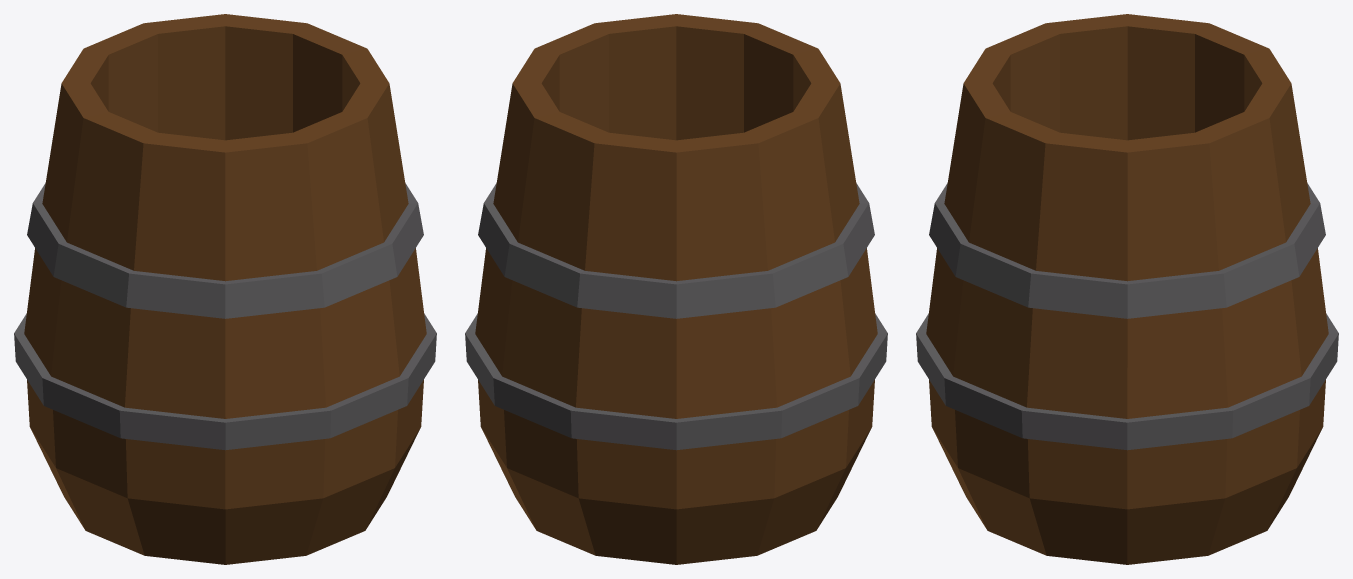
Rendered from Barrel.fbx.
3 renders of one model, left to right at view 1: azimuth 30°, elevation 25°; view 2: azimuth 150°, elevation 25°; view 3: azimuth 270°, elevation 25°, orthographic.
Parts seen in each view (by area): view 1: Barrel; view 2: Barrel; view 3: Barrel.
Part boxes in pixels (x1,y1,x2,y2): Barrel: (14, 14, 436, 564); Barrel: (465, 14, 887, 564); Barrel: (916, 14, 1338, 564).
Bounding box in the file's own units: 176 × 190 × 176.
